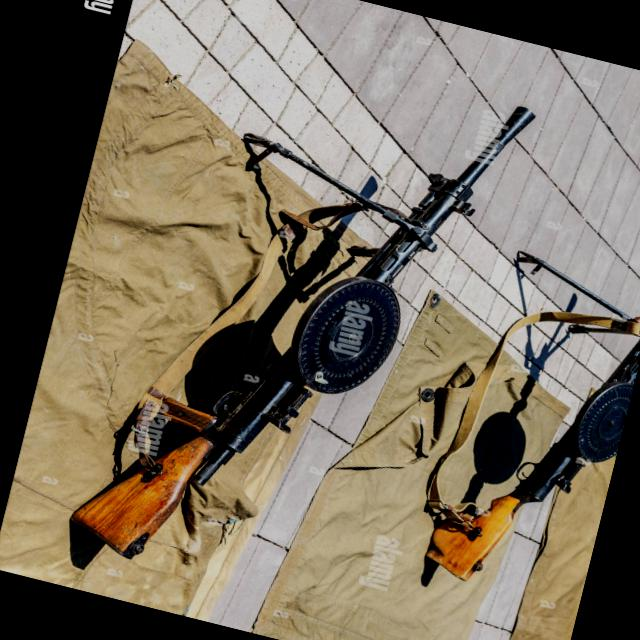long weapon: (92, 14, 524, 616)
